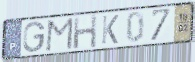0: (125, 11, 147, 45)
7: (150, 7, 172, 43)
G: (22, 20, 47, 54)
H: (72, 13, 98, 50)
K: (100, 13, 121, 45)
M: (44, 16, 75, 53)
